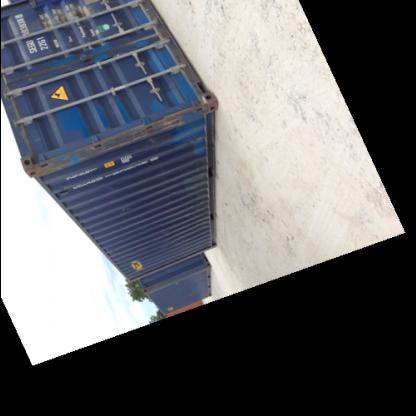Damage: (37, 110, 187, 178), (163, 190, 207, 208), (160, 222, 182, 256)
